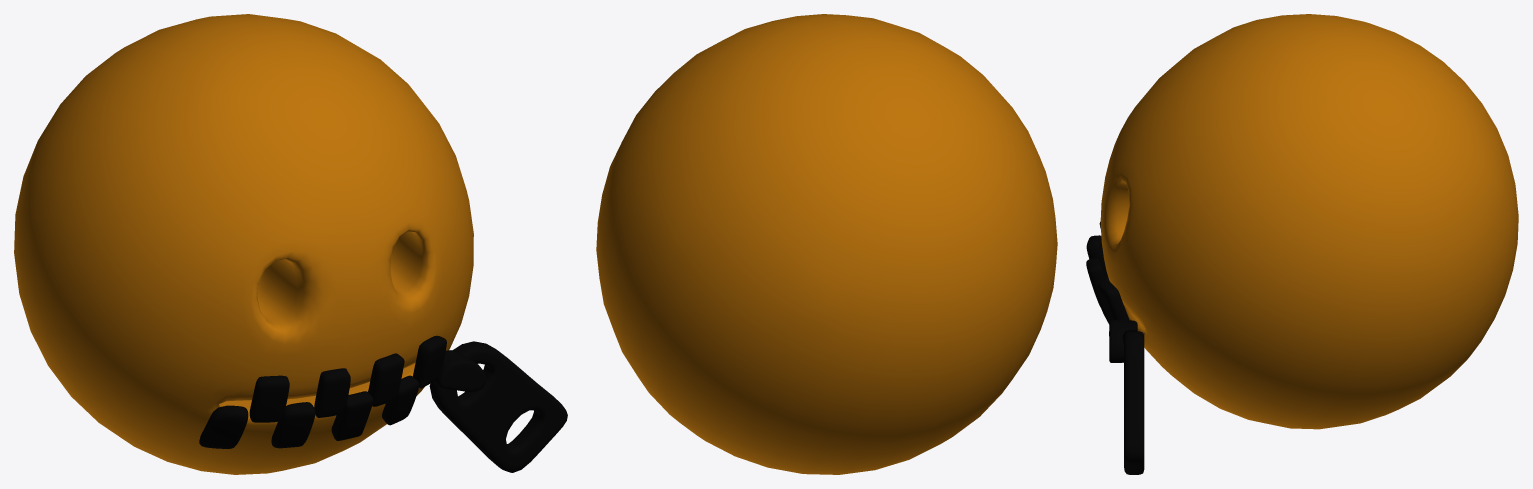
File: clouse mouth.FBX
The picture shows the model from 3 angles, left to right: view 1: azimuth 30°, elevation 25°; view 2: azimuth 150°, elevation 25°; view 3: azimuth 270°, elevation 25°; orthographic projection. The views are drawn at different scales.
Parts seen in each view (by area): view 1: Group13488, Group64639, Group1, Group7, Group29051, Group10, Group4, Group3, ZBrush_defualt_group, Group2, Group9; view 2: Group13488; view 3: Group13488, Group64639, Group29051, Group2, Group3.
Boxes of the visible parts, x1,y1,x2,y2 form: Group13488: [14, 14, 473, 474]; Group64639: [429, 341, 567, 472]; Group1: [199, 405, 248, 448]; Group7: [249, 375, 289, 422]; Group29051: [433, 350, 486, 392]; Group10: [271, 402, 315, 448]; Group4: [314, 368, 350, 417]; Group3: [368, 353, 404, 406]; ZBrush_defualt_group: [331, 391, 373, 440]; Group2: [412, 335, 446, 388]; Group9: [382, 375, 419, 425]; Group13488: [596, 14, 1057, 474]; Group13488: [1100, 14, 1518, 429]; Group64639: [1124, 331, 1144, 474]; Group29051: [1109, 320, 1137, 362]; Group2: [1098, 281, 1129, 320]; Group3: [1086, 258, 1106, 307].
Bounding box in the file's own units: 23.72 × 22.47 × 23.33.
